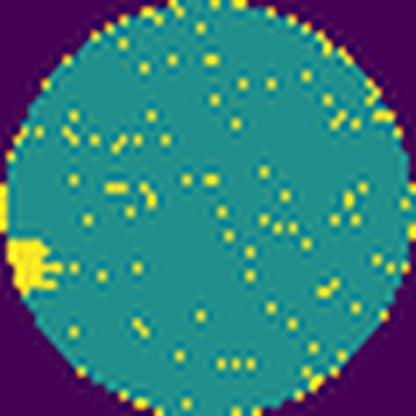Edge-Loc: (0, 227, 73, 292)
